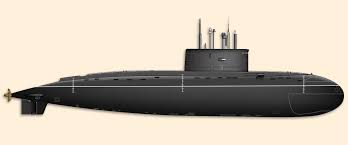Submarine: (11, 33, 344, 116)
